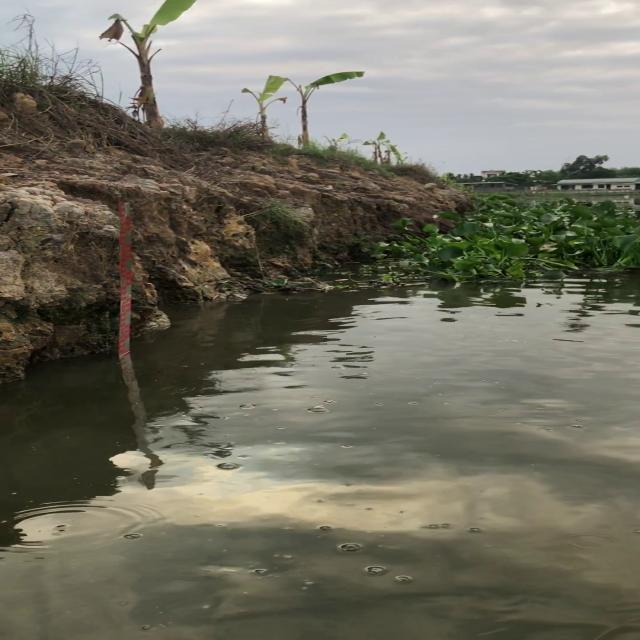ruler: (108, 203, 145, 362)
